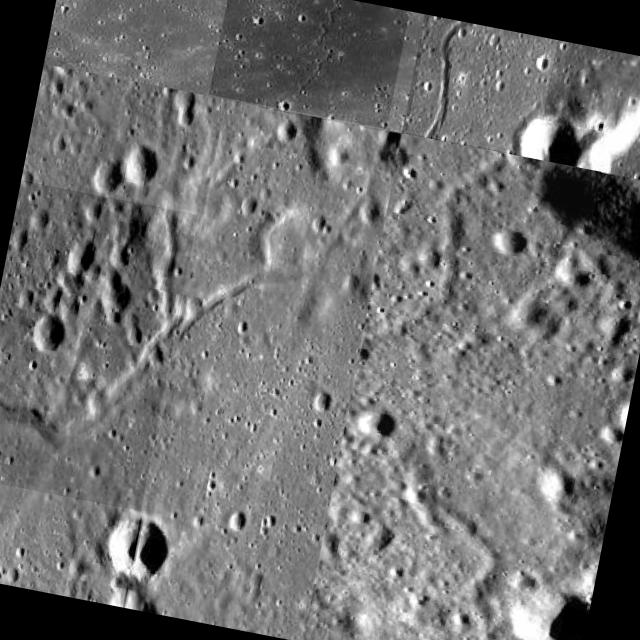rille: (307, 133, 601, 640), (0, 180, 197, 511), (208, 0, 409, 129), (407, 15, 558, 158)
